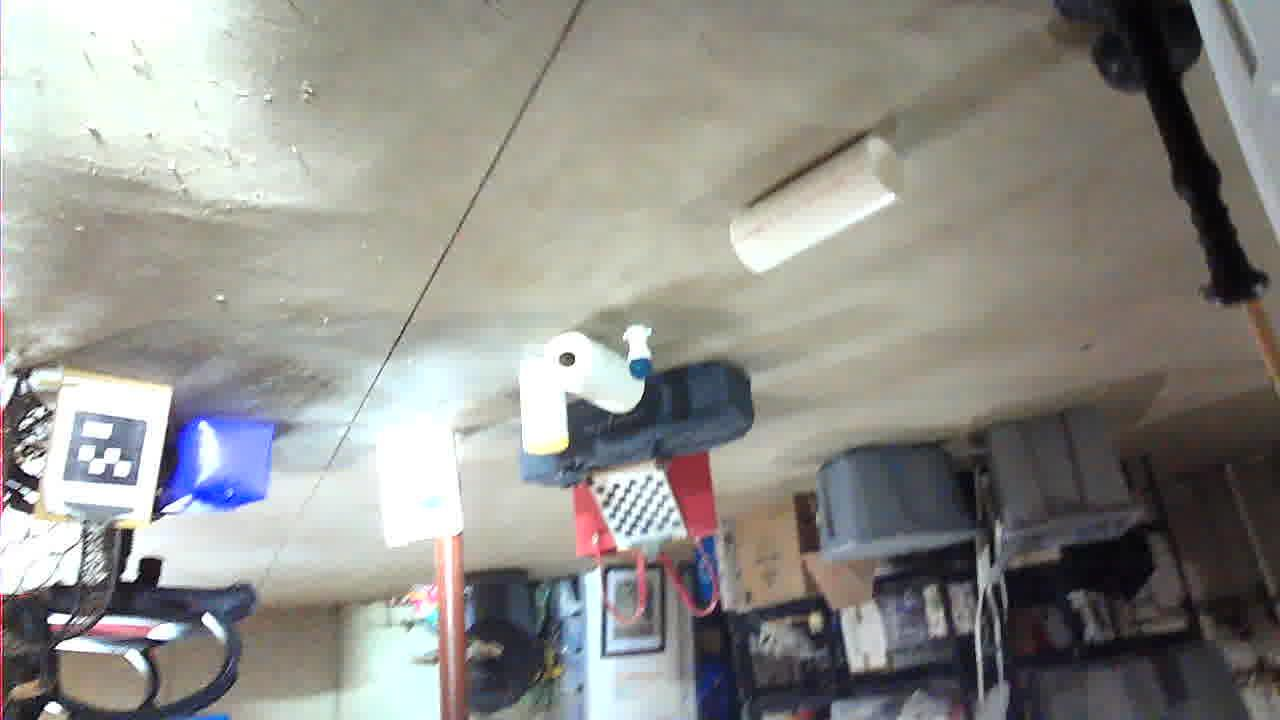coral: (371, 445, 550, 584)
